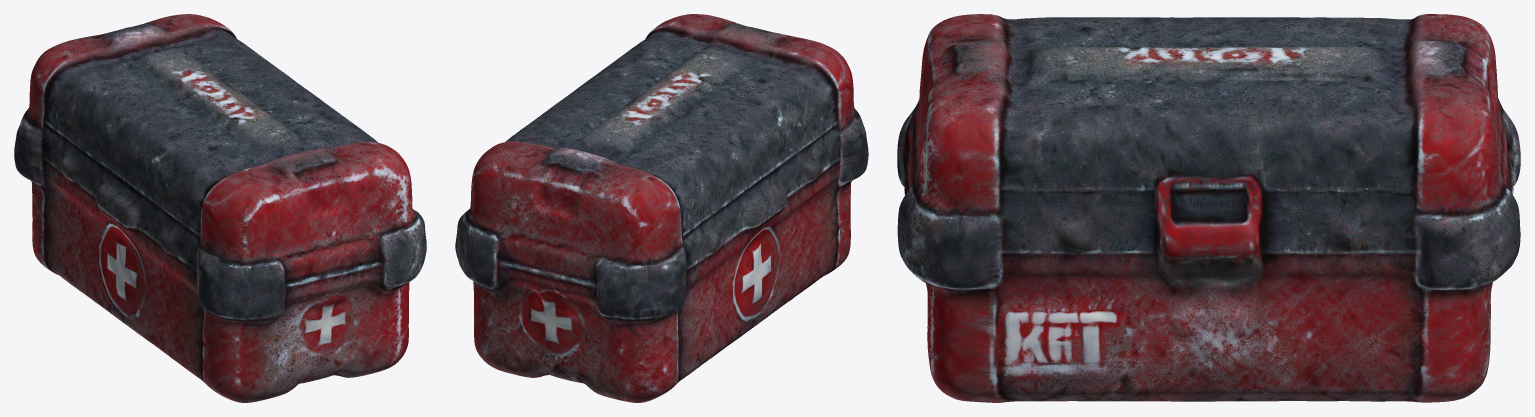
The model's file is medkit_1.glb.
3 renders of one model, left to right at view 1: azimuth 30°, elevation 25°; view 2: azimuth 150°, elevation 25°; view 3: azimuth 270°, elevation 25°, orthographic. The views are drawn at different scales.
Visible parts, largest first — view 1: default_010-material; view 2: default_010-material; view 3: default_010-material.
Boxes of the visible parts, bbox=[...] form: default_010-material: bbox=[14, 14, 426, 402]; default_010-material: bbox=[455, 14, 868, 402]; default_010-material: bbox=[897, 14, 1520, 402].
Bounding box in the file's own units: 0.9575 × 0.9499 × 1.74.
1 material, 1 textured.
